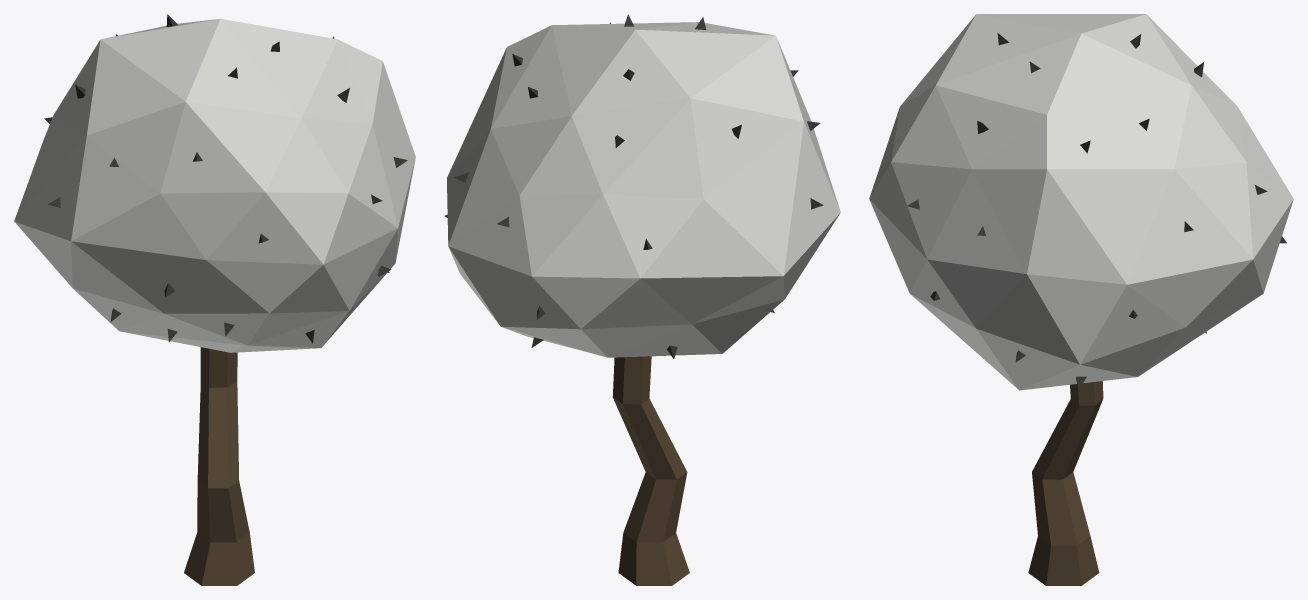
The model's file is Tree_4_White.fbx.
3 renders of one model, left to right at view 1: azimuth 30°, elevation 25°; view 2: azimuth 150°, elevation 25°; view 3: azimuth 270°, elevation 25°, orthographic.
Visible parts, largest first — view 1: Tree_4_White_Part_2, Tree_4_White_Part_1, Tree_4_White_Part_3; view 2: Tree_4_White_Part_2, Tree_4_White_Part_1, Tree_4_White_Part_3; view 3: Tree_4_White_Part_2, Tree_4_White_Part_1, Tree_4_White_Part_3.
Boxes of the visible parts, <box> form: Tree_4_White_Part_2: <box>14,18,415,352</box>; Tree_4_White_Part_1: <box>184,347,254,585</box>; Tree_4_White_Part_3: <box>44,14,407,343</box>; Tree_4_White_Part_2: <box>447,22,840,357</box>; Tree_4_White_Part_1: <box>612,356,689,585</box>; Tree_4_White_Part_3: <box>444,14,823,358</box>; Tree_4_White_Part_2: <box>869,14,1293,390</box>; Tree_4_White_Part_1: <box>1028,381,1103,585</box>; Tree_4_White_Part_3: <box>907,33,1286,389</box>.
Size of the model in its own units: 339 by 507 by 358.
